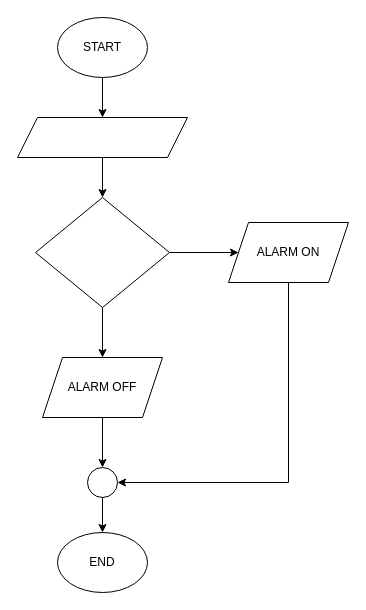
Some shapes in this 366 by 610 pixel diagram are drawn without their labels. The box of each missing label's shape, as (x1, y1, x2, y2) in pixels:
GET IGN, DRIV, BELTD, PASS, BELTP: (16, 116, 188, 158)
IF Boolean expression: (34, 196, 170, 308)
